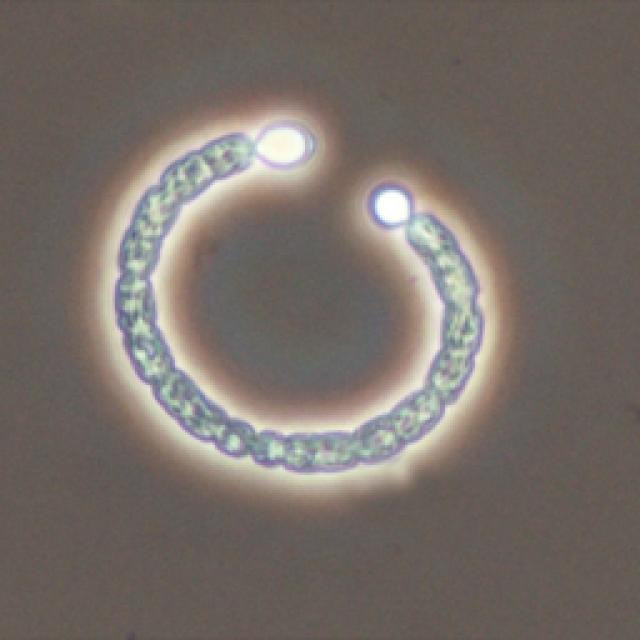Anabaena: (114, 99, 493, 483)
